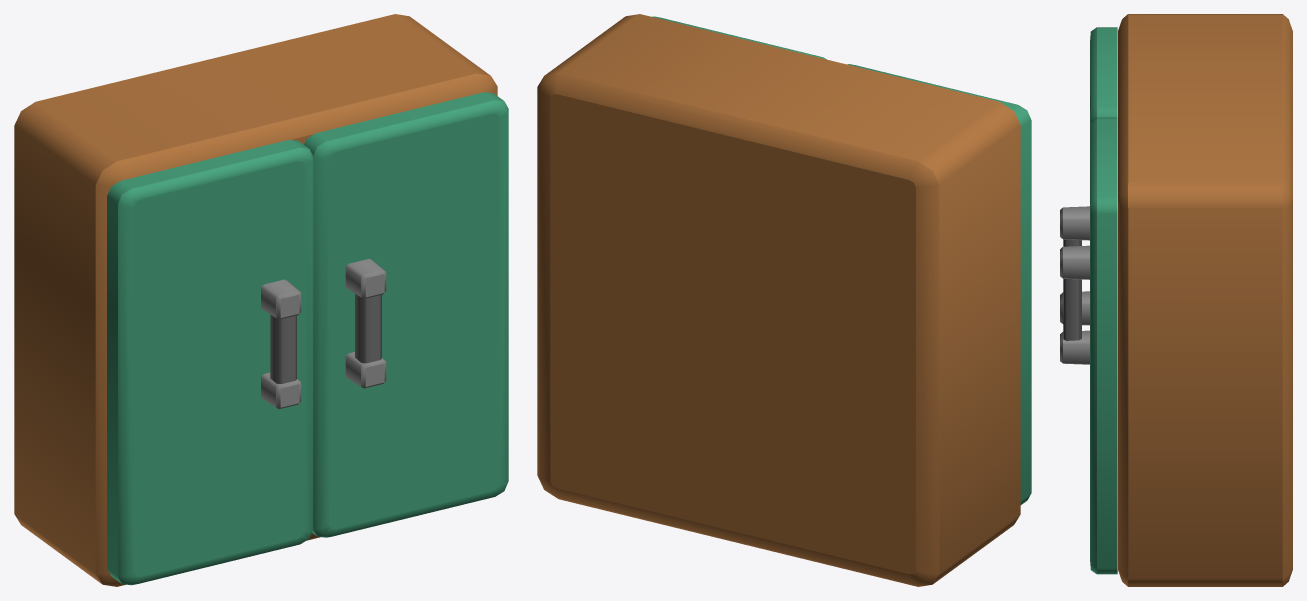
File: Furnit_C_12.glb
The picture shows the model from 3 angles, left to right: view 1: azimuth 30°, elevation 25°; view 2: azimuth 150°, elevation 25°; view 3: azimuth 270°, elevation 25°; orthographic projection. The views are drawn at different scales.
Parts seen in each view (by area): view 1: Furnit_C_12_S1, Furnit_C_12_S2, Furnit_C_12; view 2: Furnit_C_12, Furnit_C_12_S1; view 3: Furnit_C_12, Furnit_C_12_S2, Furnit_C_12_S1.
Boxes of the visible parts, x1,y1,x2,y2 form: Furnit_C_12_S1: [107, 139, 313, 585]; Furnit_C_12_S2: [304, 92, 508, 537]; Furnit_C_12: [14, 14, 497, 586]; Furnit_C_12: [537, 14, 1020, 586]; Furnit_C_12_S1: [847, 64, 1031, 504]; Furnit_C_12: [1118, 14, 1292, 586]; Furnit_C_12_S2: [1060, 117, 1117, 574]; Furnit_C_12_S1: [1060, 27, 1117, 325].
Bounding box in the file's own units: 0.9 × 0.9107 × 0.4755.
Materials: 1 (1 with a texture image).
